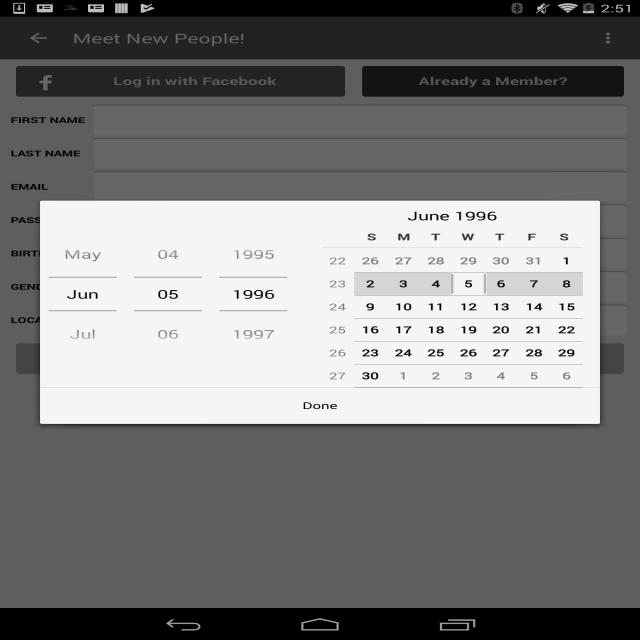Button: (40, 388, 600, 424), (48, 234, 117, 278), (48, 310, 117, 354), (219, 234, 288, 278), (219, 310, 288, 354), (134, 234, 202, 278), (134, 310, 202, 354)
EditText: (48, 278, 117, 310), (219, 278, 288, 310), (134, 278, 202, 310)
ImageView: (322, 247, 583, 248)
TextView: (408, 201, 497, 230), (419, 230, 452, 243), (548, 230, 581, 243), (324, 230, 356, 243), (356, 230, 388, 243), (388, 230, 420, 243), (452, 230, 484, 243), (484, 230, 516, 243), (516, 230, 548, 243)
